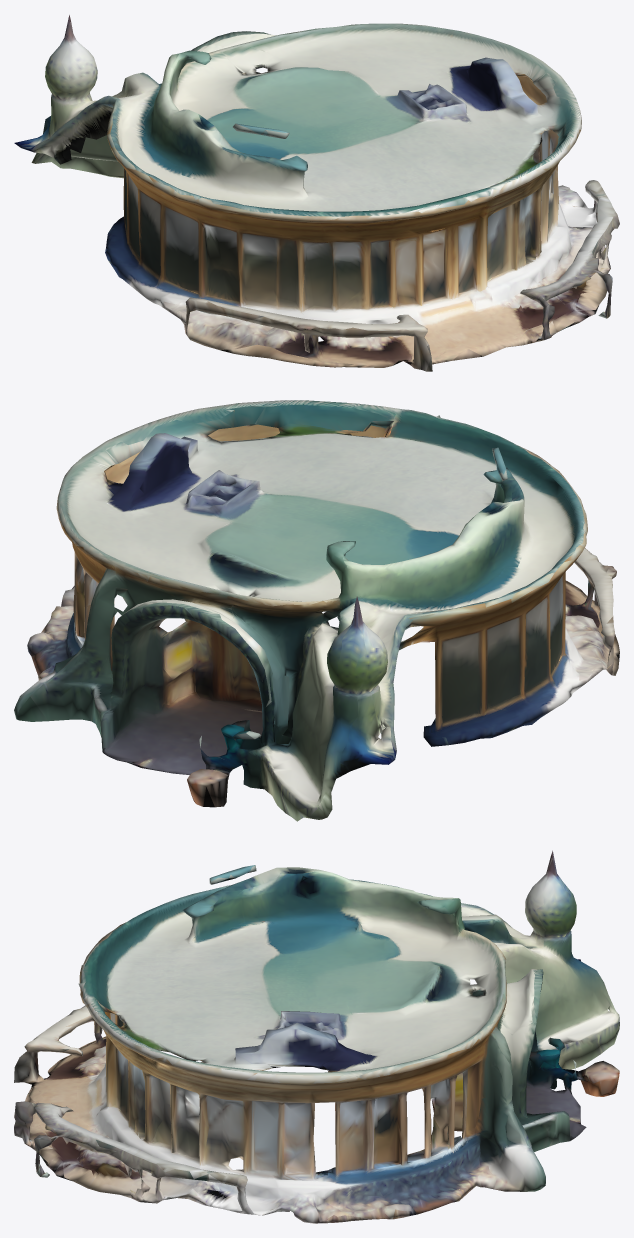
The model's file is earthship-2.glb.
The picture shows the model from 3 angles, top to bottom: view 1: azimuth 30°, elevation 25°; view 2: azimuth 150°, elevation 25°; view 3: azimuth 270°, elevation 25°; orthographic projection. The views are drawn at different scales.
Visible parts, largest first — view 1: Earthship; view 2: Earthship; view 3: Earthship.
Boxes of the visible parts, bbox=[...] form: Earthship: bbox=[14, 15, 619, 371]; Earthship: bbox=[14, 400, 619, 821]; Earthship: bbox=[14, 850, 619, 1223].
Bounding box in the file's own units: 16.64 × 6.96 × 19.95.
1 material, 1 textured.
